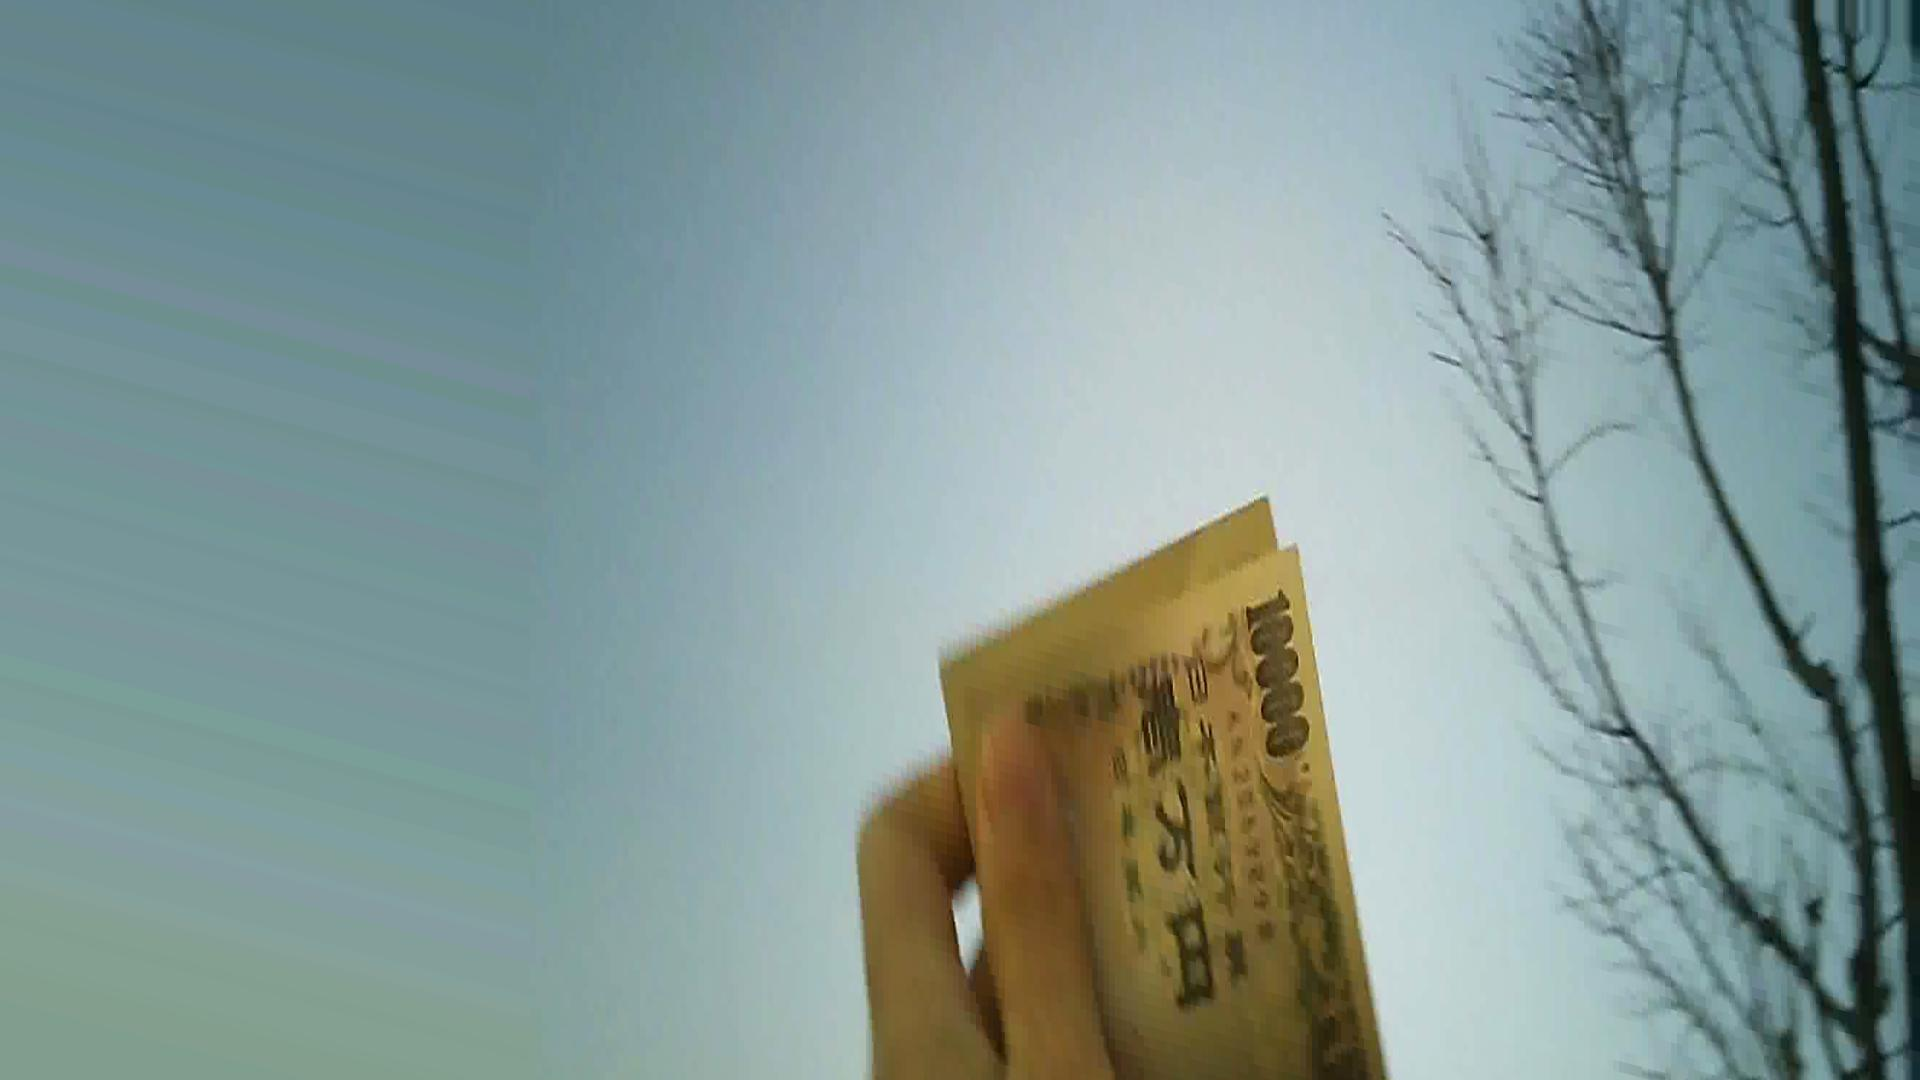10,000 Yen: (949, 529, 1437, 1079)
